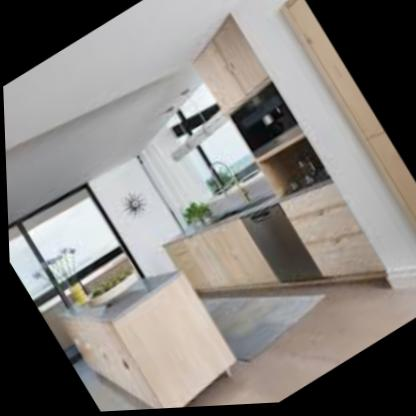Cabinet: (157, 152, 391, 376), (176, 13, 277, 124)
